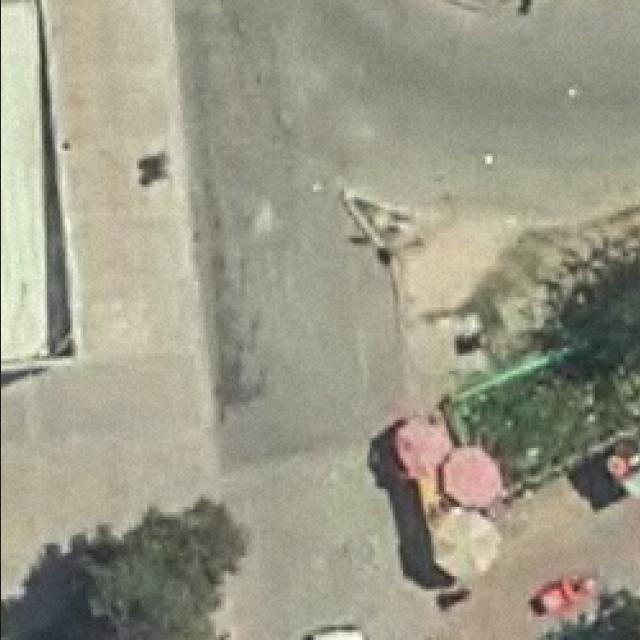vendedor_ambulante: (424, 502, 502, 588), (380, 412, 448, 480), (434, 442, 498, 514)
